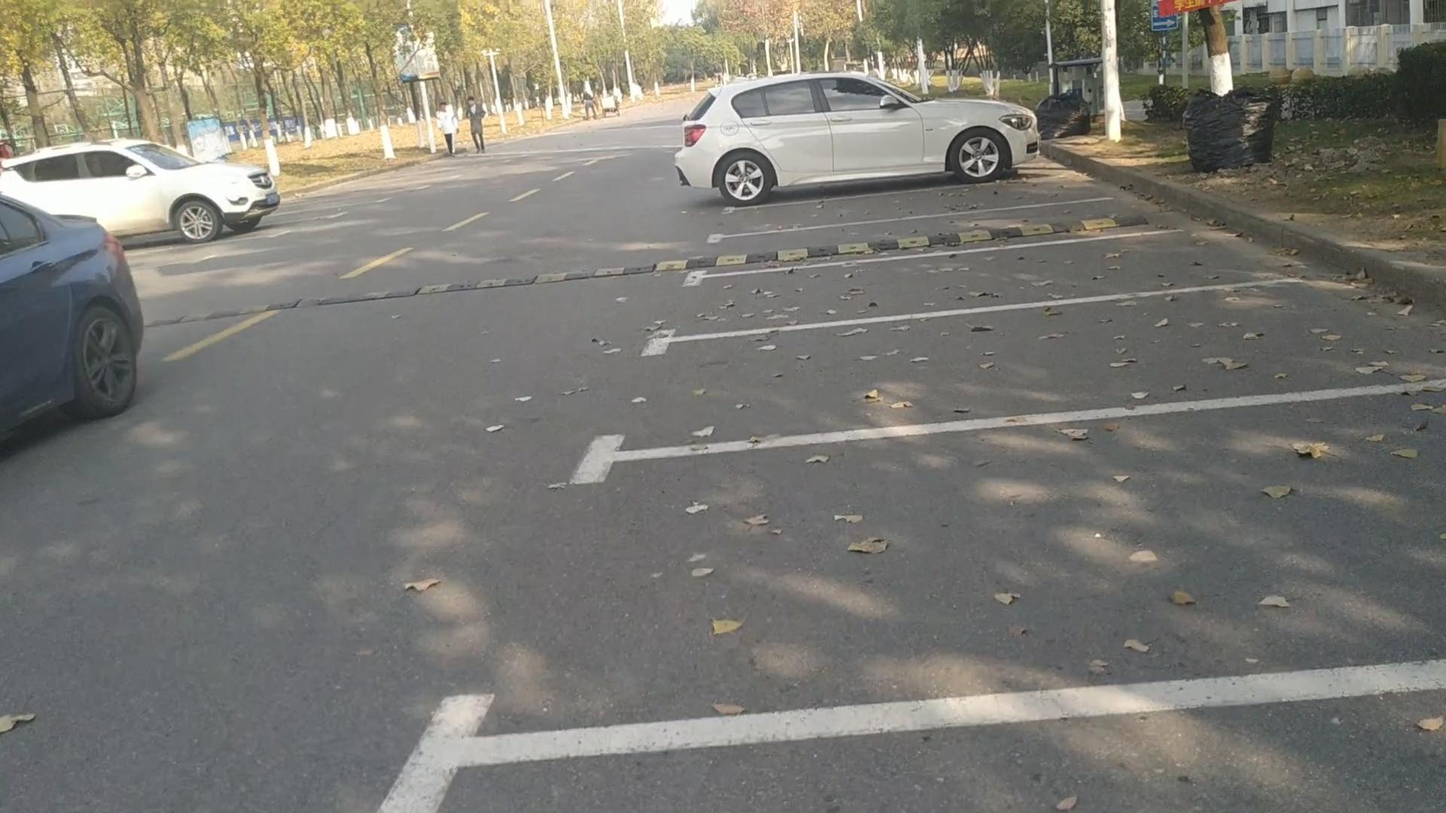car: (672, 71, 1044, 204), (1, 191, 147, 443), (0, 142, 280, 242)
